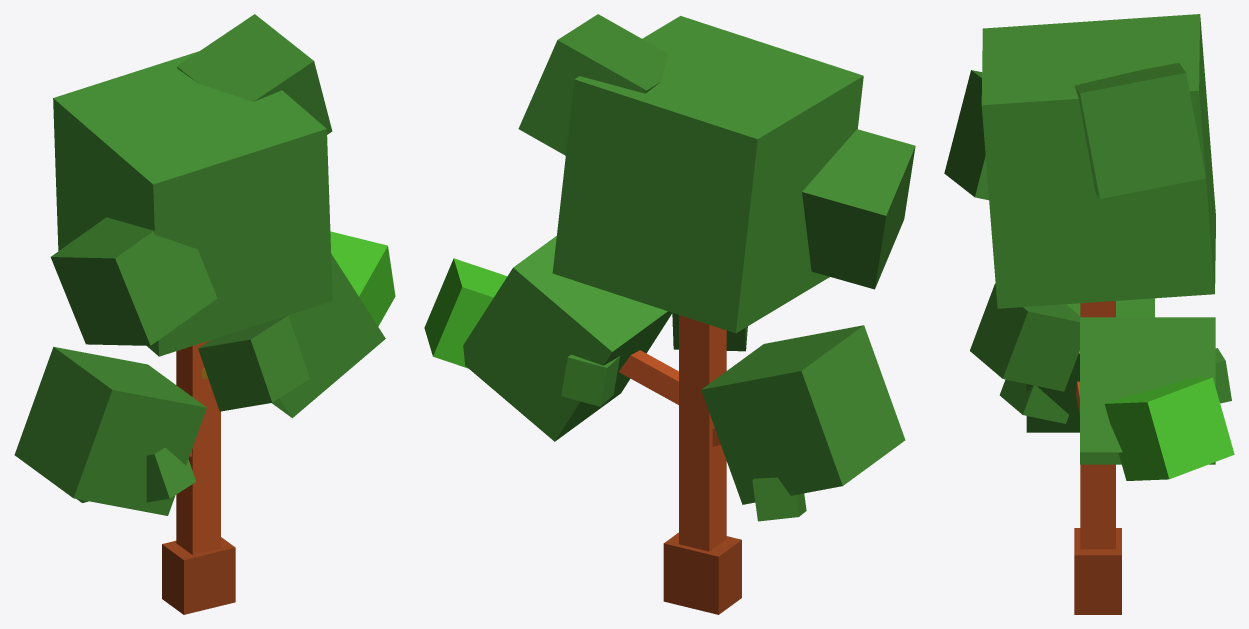
File: tree.fbx
3 views of the same model, side by side, from view 1: azimuth 30°, elevation 25°; view 2: azimuth 150°, elevation 25°; view 3: azimuth 270°, elevation 25° (orthographic). The views are drawn at different scales.
Visible parts, largest first — view 1: _cube_center; view 2: _cube_center; view 3: _cube_center.
Part boxes in pixels (bbox=[...]): _cube_center: bbox=[14, 14, 395, 614]; _cube_center: bbox=[424, 14, 915, 614]; _cube_center: bbox=[944, 14, 1234, 614].
Size of the model in its own units: 259 by 339 by 154.
